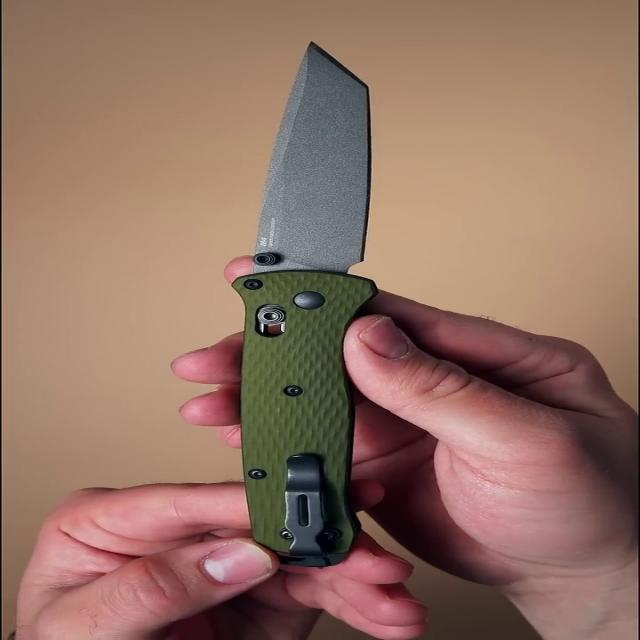Knife: (231, 29, 393, 579)
